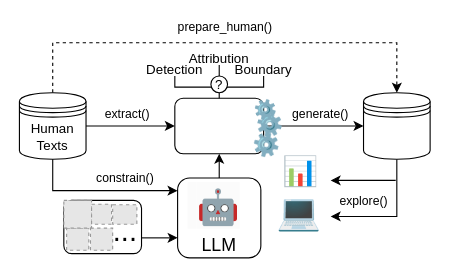
The diagram is 450 pixels wide and 278 high, and some of its shapes have lost their labels. Grey dashed boxes stand in for pictures. Each missing label, with the centre of its shape:
"Dataset" belongs at [396,125].
"Dataset Generator" belongs at [219,125].
